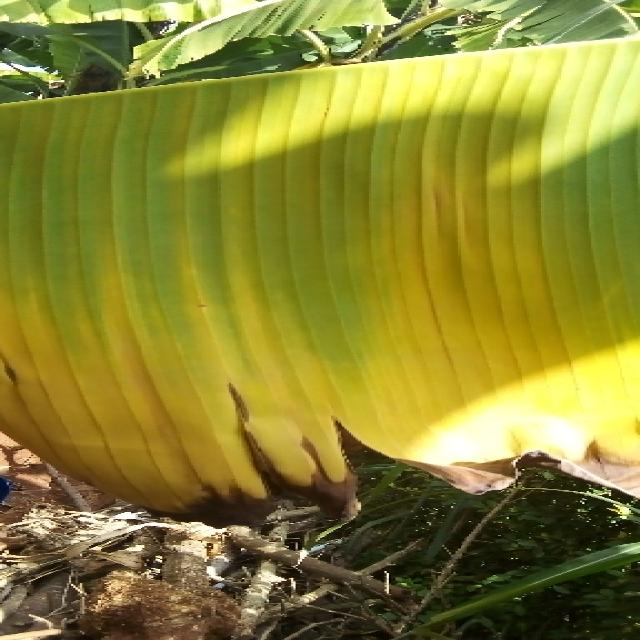Cordana: (0, 49, 640, 532)
